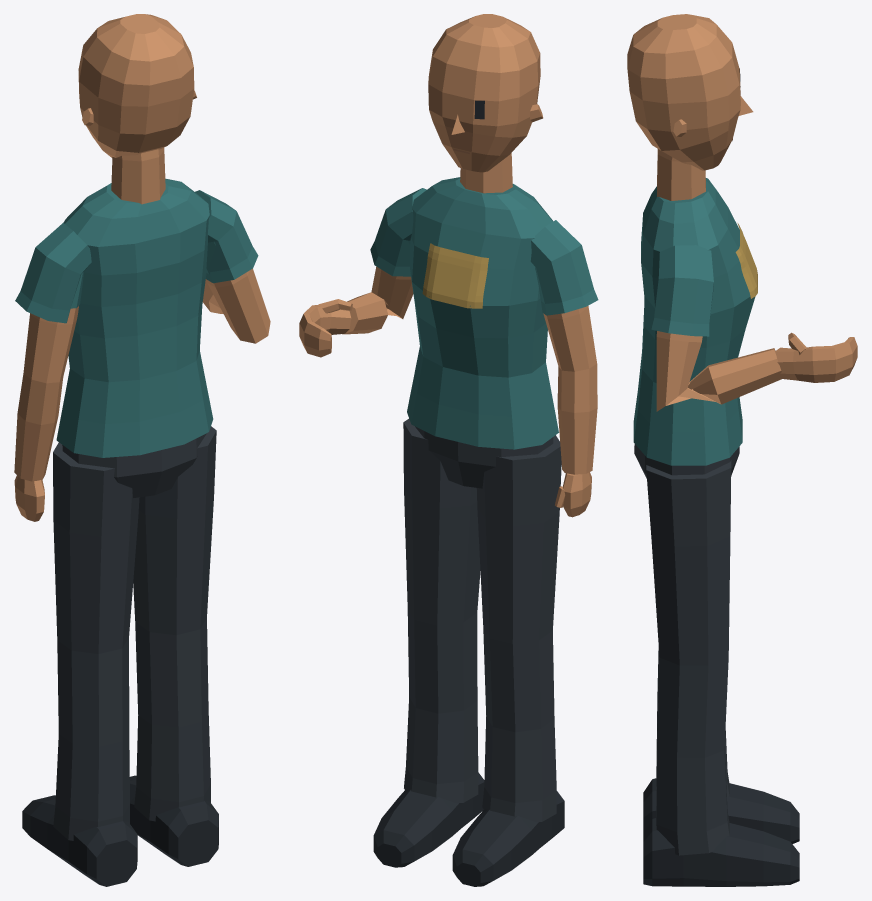
Rendered from lwf_attendee_female_drink_hold_v2.glb.
3 renders of one model, left to right at view 1: azimuth 30°, elevation 25°; view 2: azimuth 150°, elevation 25°; view 3: azimuth 270°, elevation 25°, orthographic. The views are drawn at different scales.
Parts seen in each view (by area): view 1: Attendee_female_drink_hold_v6; view 2: Attendee_female_drink_hold_v6; view 3: Attendee_female_drink_hold_v6.
Boxes of the visible parts, x1,y1,x2,y2 form: Attendee_female_drink_hold_v6: [14, 14, 270, 886]; Attendee_female_drink_hold_v6: [299, 14, 598, 886]; Attendee_female_drink_hold_v6: [627, 14, 857, 886].
Bounding box in the file's own units: 0.4909 × 1.66 × 0.4115.
Materials: 1 (1 with a texture image).
